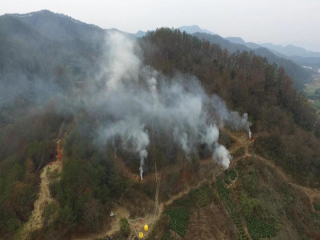smoke: (77, 31, 254, 174)
